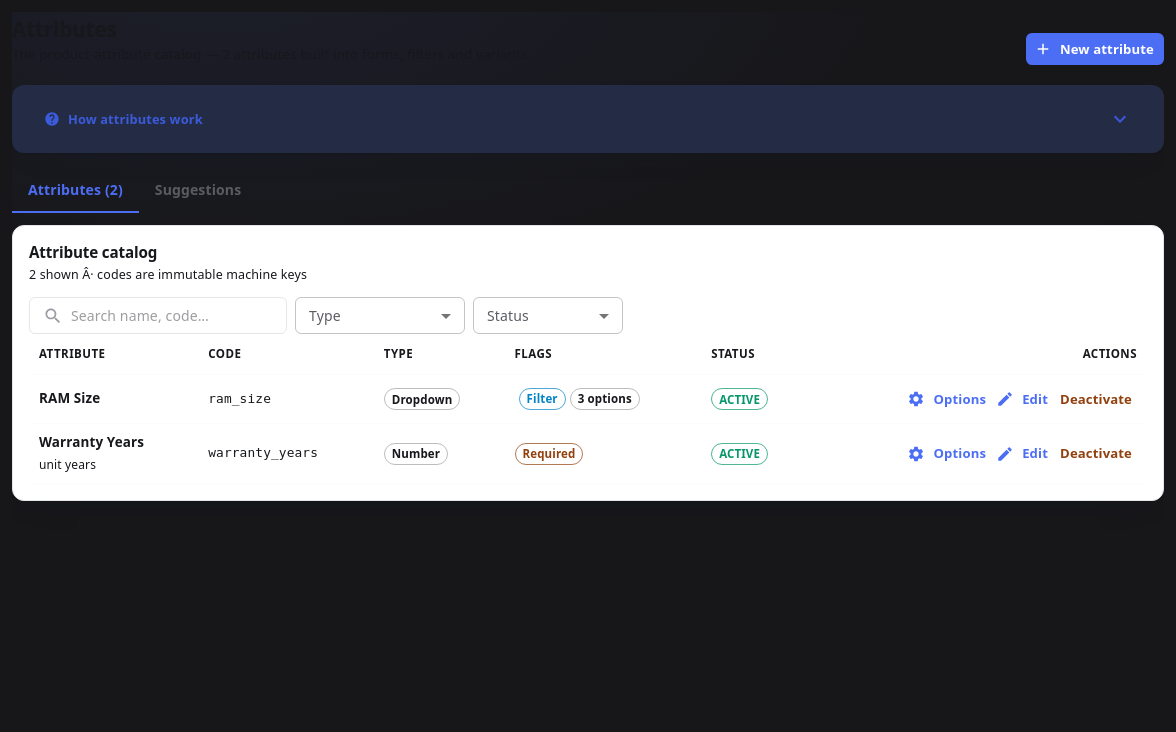
Test case: CatalogAttributesView (admin) › searches by name or code
The image size is (1176, 732).
In the search field with placeholder "Search name, code…": {"x": 179, "y": 316} [71,297,287,334], type "warranty_years"
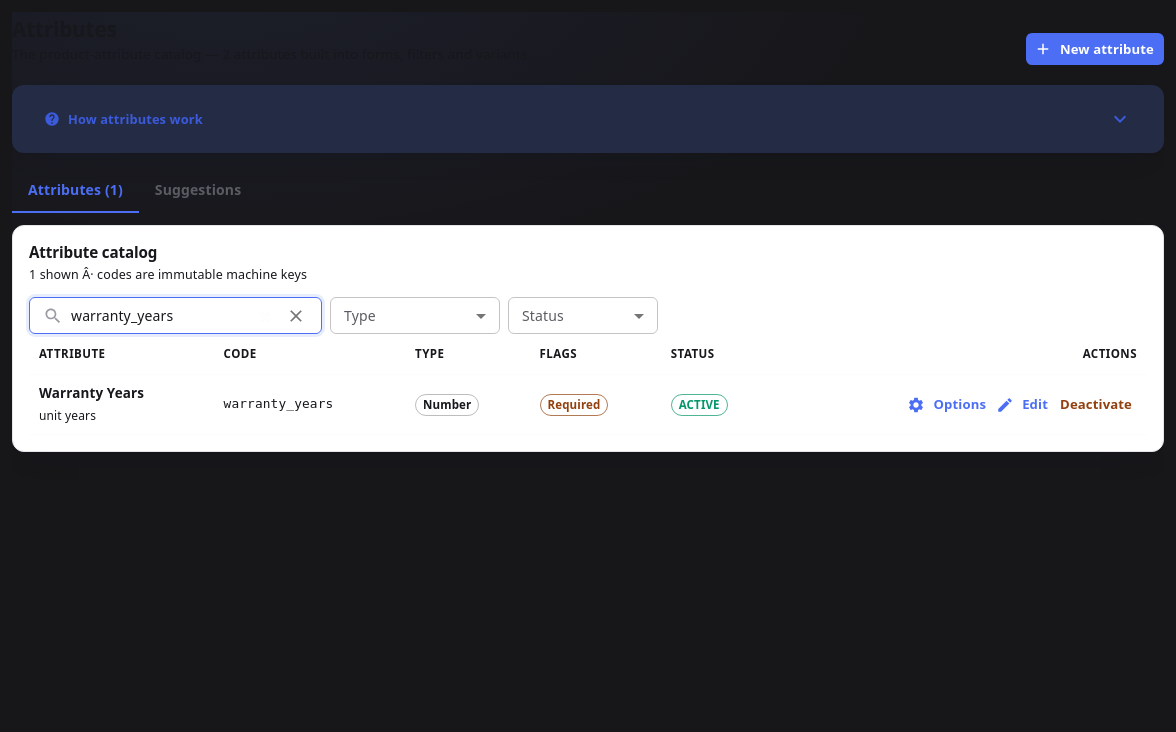
Expected: the text "Warranty Years" is shown, [39,384,144,402]
Expected: the text "RAM Size" is gone
